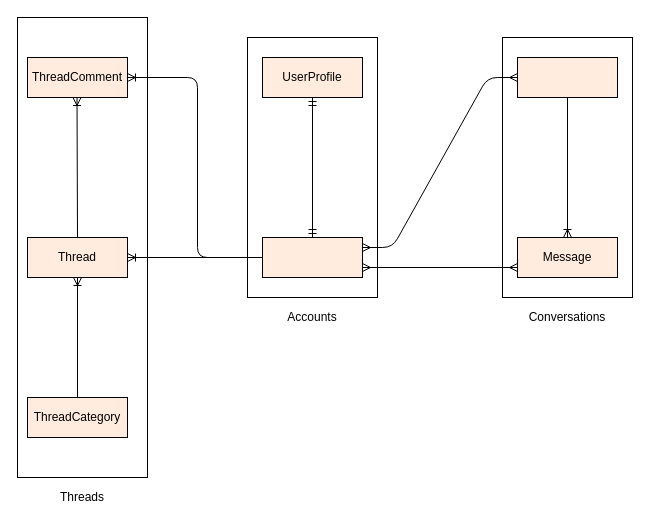
Some shapes in this 650 by 525 pixel diagram are drawn without their labels. Each missing label, with the box of its shape:
Conversation: (516, 56, 618, 98)
User: (262, 236, 362, 278)
